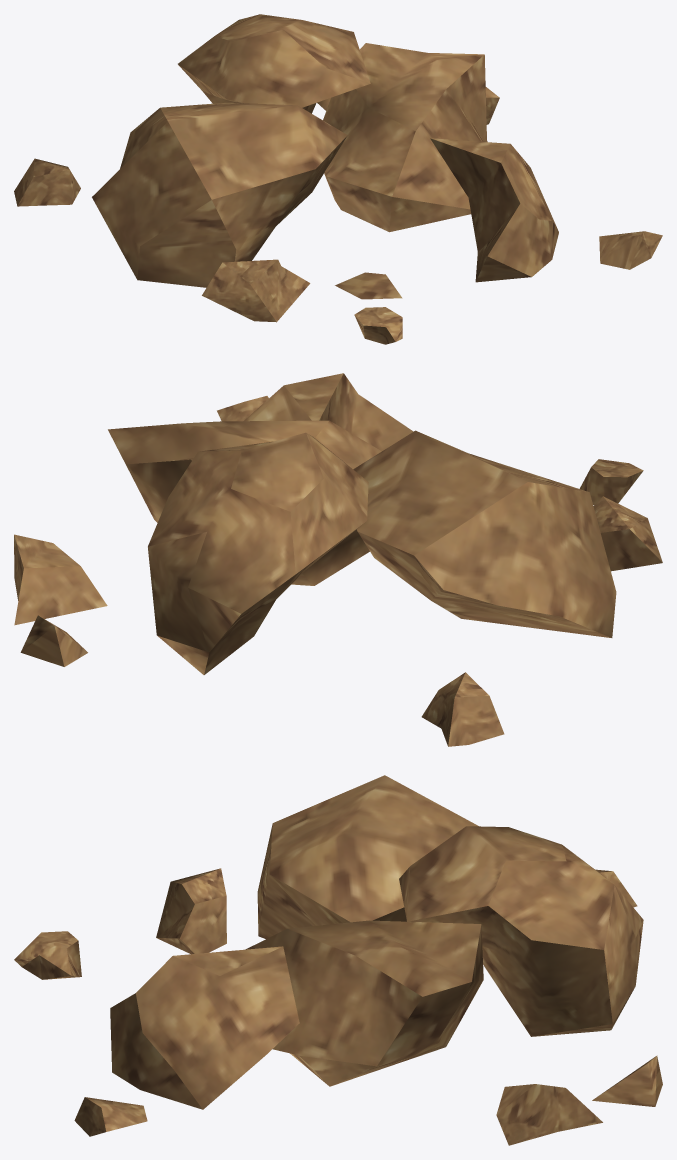
Rendered from Rock_d_s01.fbx.
The picture shows the model from 3 angles, top to bottom: view 1: azimuth 30°, elevation 25°; view 2: azimuth 150°, elevation 25°; view 3: azimuth 270°, elevation 25°; orthographic projection. The views are drawn at different scales.
Parts seen in each view (by area): view 1: Rock_d_s01; view 2: Rock_d_s01; view 3: Rock_d_s01.
Boxes of the visible parts, x1,y1,x2,y2 form: Rock_d_s01: (14, 14, 662, 344); Rock_d_s01: (14, 373, 662, 746); Rock_d_s01: (14, 775, 662, 1145).
Size of the model in its own units: 1.39 by 0.4937 by 1.49.
